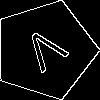V: (19, 25, 76, 81)
